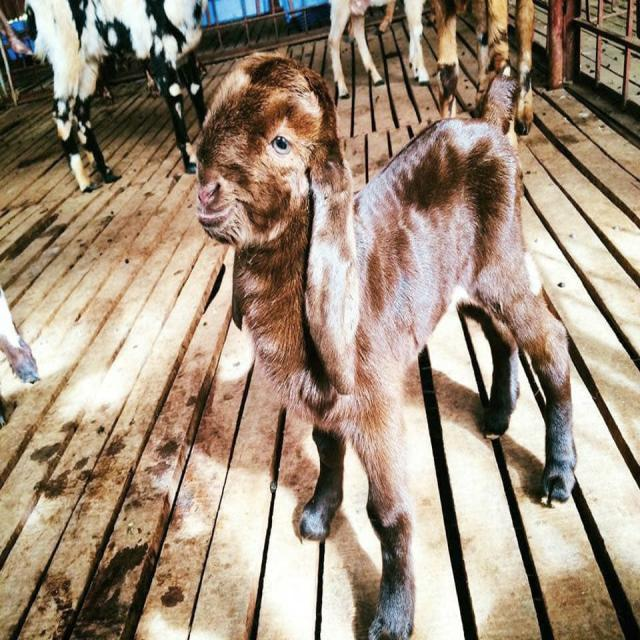Goat: (186, 46, 577, 639), (23, 0, 209, 193)
